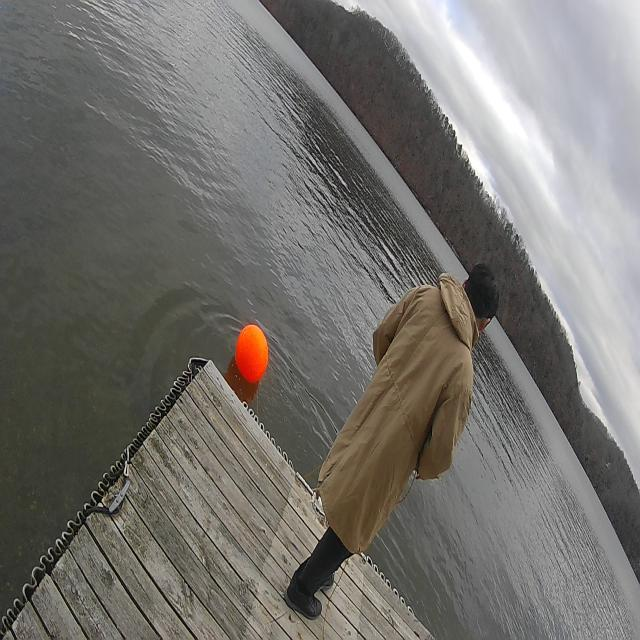Buoy: (234, 319, 270, 391)
